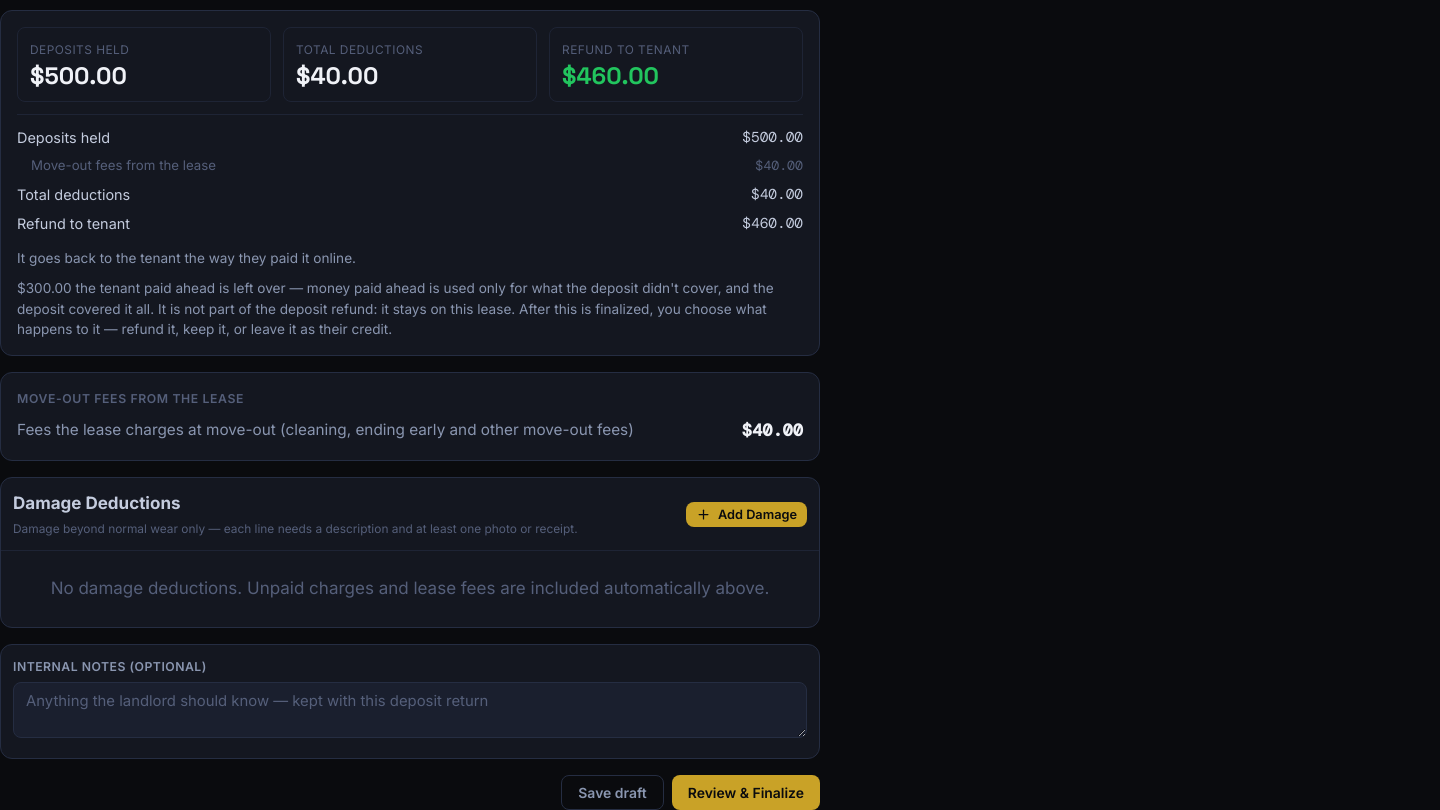
Test case: Deposit return: the server's figures, never the page's own sum › names the household and the space in the header and in the confirm — never an id
This screenshot has width=1440, height=810.
(page scrolled)
Click the button "Review & Finalize": coordinates (746, 793) 672,775 -> 820,809
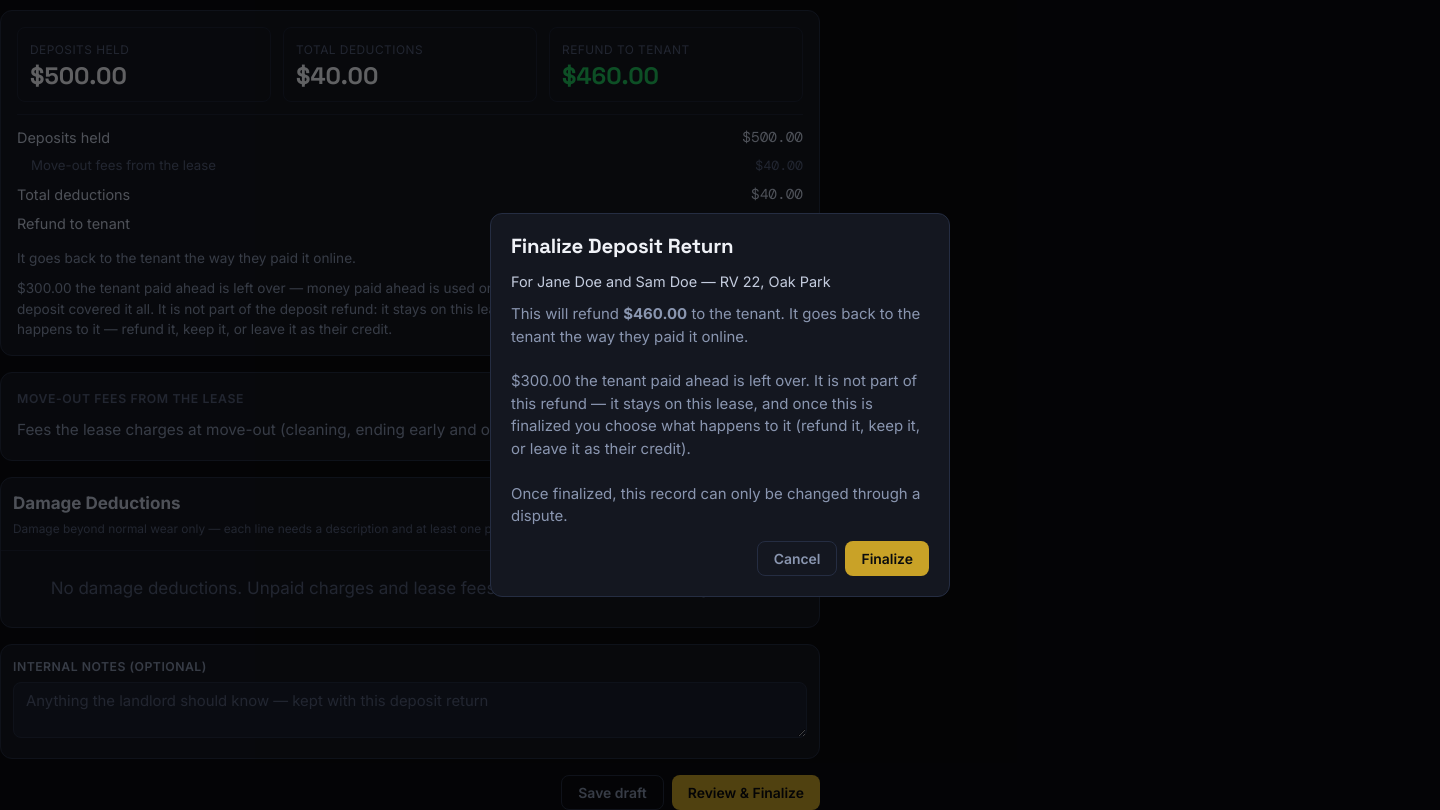
Now the text with test id "confirm-who" reads "For Jane Doe and Sam Doe — RV 22, Oak Park", box 511,273 -> 831,290
